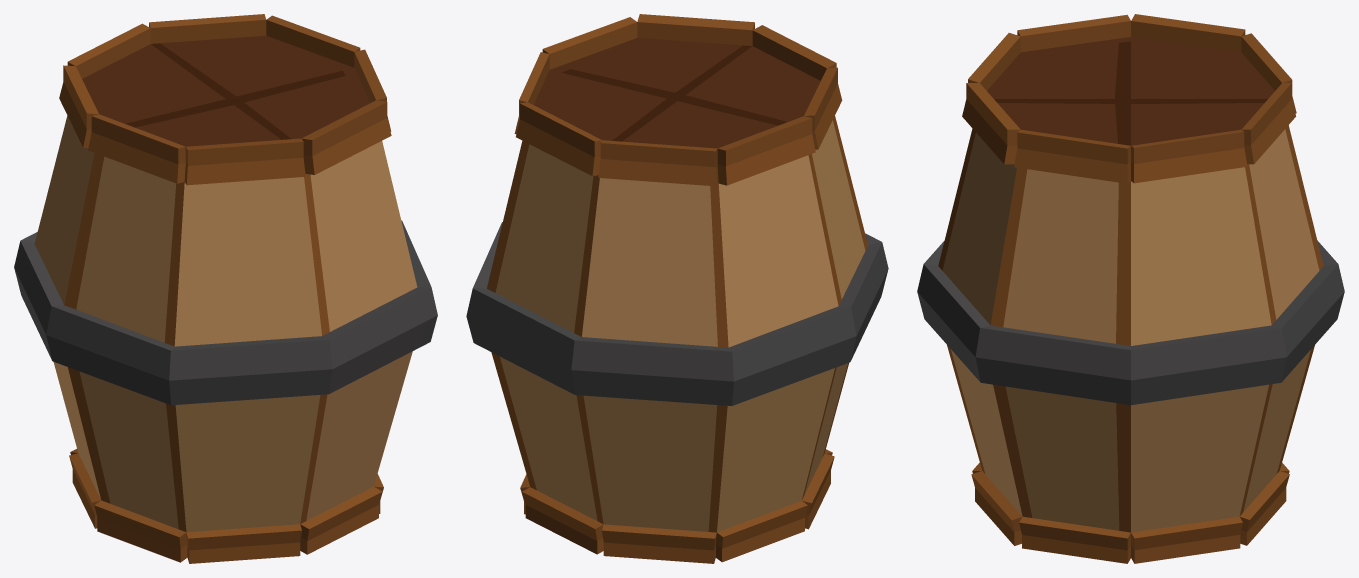
File: barril.fbx
3 renders of one model, left to right at view 1: azimuth 30°, elevation 25°; view 2: azimuth 150°, elevation 25°; view 3: azimuth 270°, elevation 25°, orthographic.
Parts seen in each view (by area): view 1: Cube; view 2: Cube; view 3: Cube.
Boxes of the visible parts, x1,y1,x2,y2 form: Cube: (14, 14, 437, 563); Cube: (466, 14, 888, 563); Cube: (917, 14, 1344, 563).
Bounding box in the file's own units: 326 × 360 × 333.
